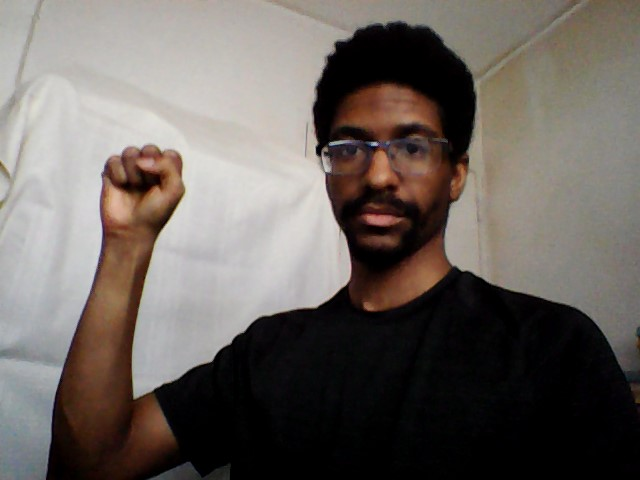s: (94, 140, 191, 241)
